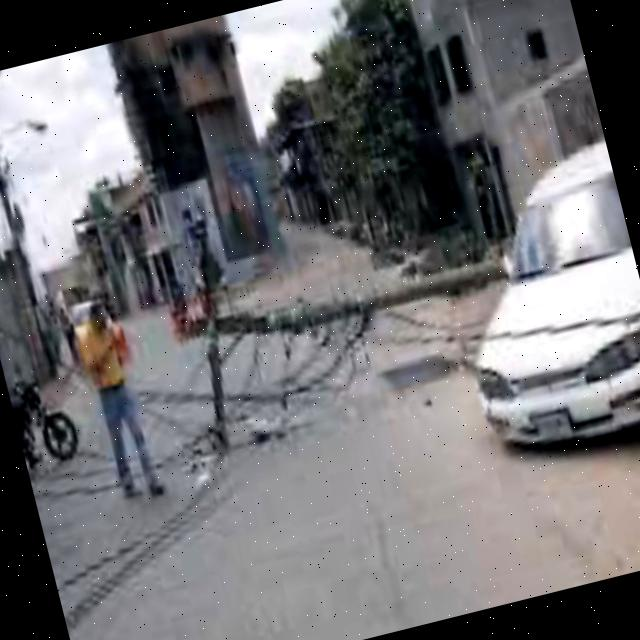Broken Pole: (187, 202, 506, 449)
